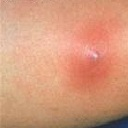Cellulitis: (77, 40, 105, 70)
